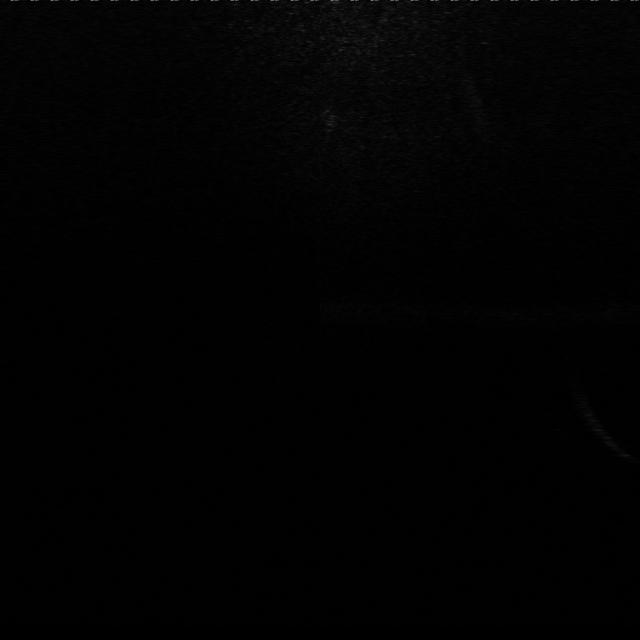circle cage: (316, 100, 346, 134)
